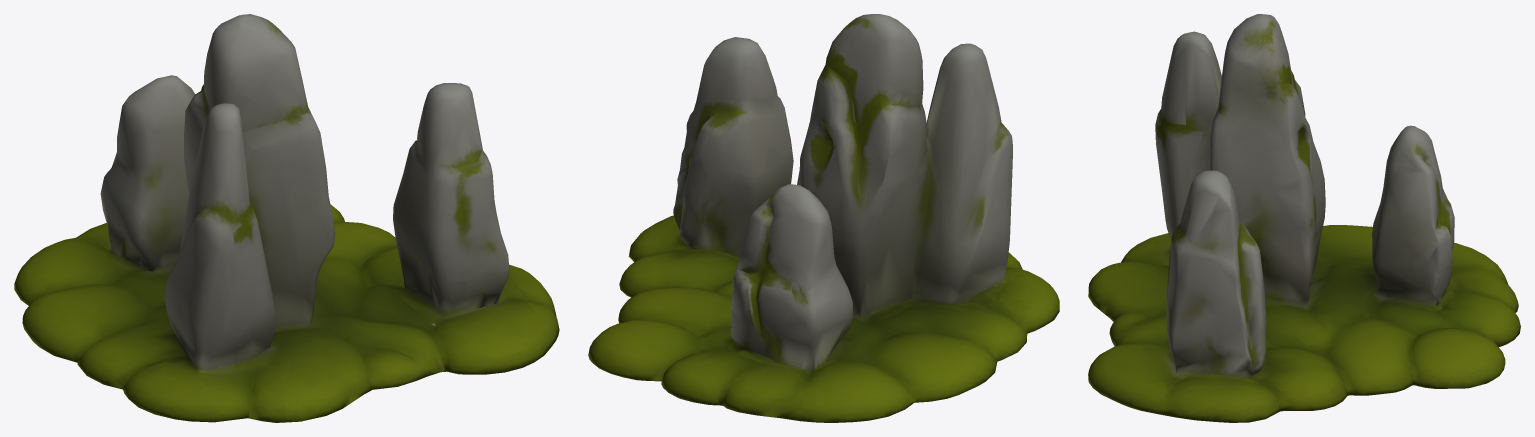
File: rock_formation_large.glb
The picture shows the model from 3 angles, left to right: view 1: azimuth 30°, elevation 25°; view 2: azimuth 150°, elevation 25°; view 3: azimuth 270°, elevation 25°; orthographic projection. The views are drawn at different scales.
Visible parts, largest first — view 1: node_0; view 2: node_0; view 3: node_0.
Boxes of the visible parts, x1,y1,x2,y2 form: node_0: [14, 14, 559, 422]; node_0: [588, 14, 1059, 422]; node_0: [1088, 14, 1520, 422].
Bounding box in the file's own units: 2.78 × 1.98 × 2.7.
1 material, 1 textured.
